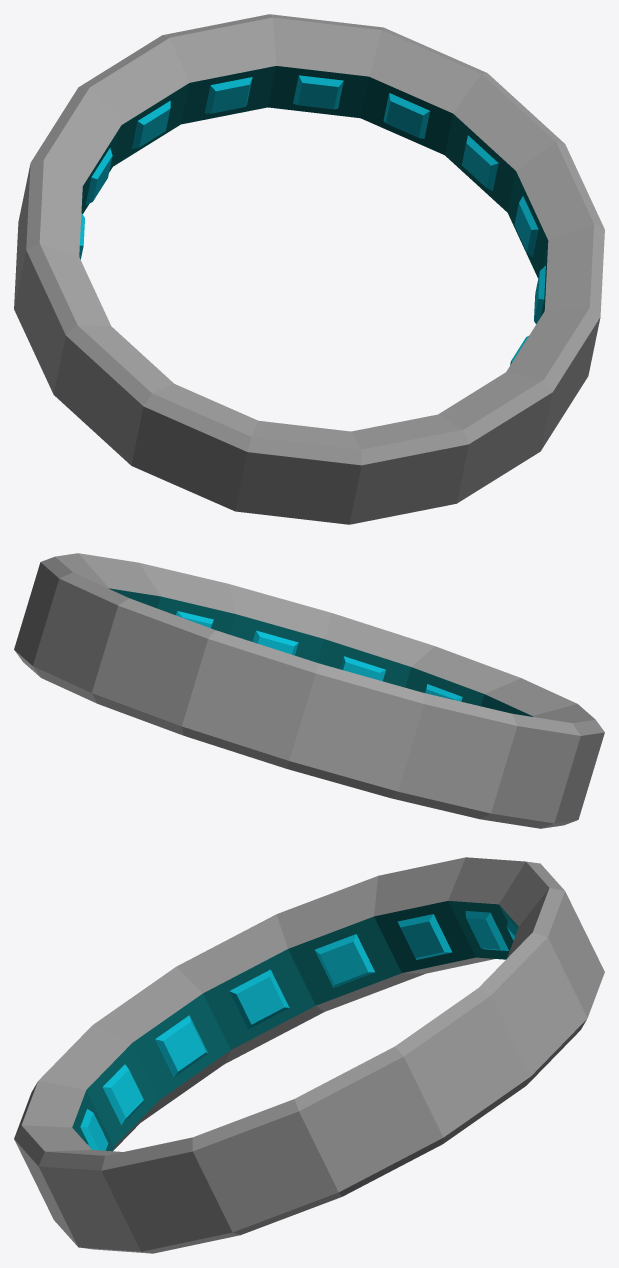
The model's file is EngineLeft_001.fbx.
3 renders of one model, top to bottom at view 1: azimuth 30°, elevation 25°; view 2: azimuth 150°, elevation 25°; view 3: azimuth 270°, elevation 25°, orthographic. The views are drawn at different scales.
Parts seen in each view (by area): view 1: EngineLeft_001; view 2: EngineLeft_001; view 3: EngineLeft_001.
Part boxes in pixels (x1,y1,x2,y2): EngineLeft_001: (14,14,604,524); EngineLeft_001: (14,553,604,828); EngineLeft_001: (14,857,604,1253).
Size of the model in its own units: 674 by 650 by 387.
